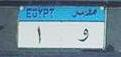1: (36, 25, 43, 44)
waw: (78, 26, 90, 43)
